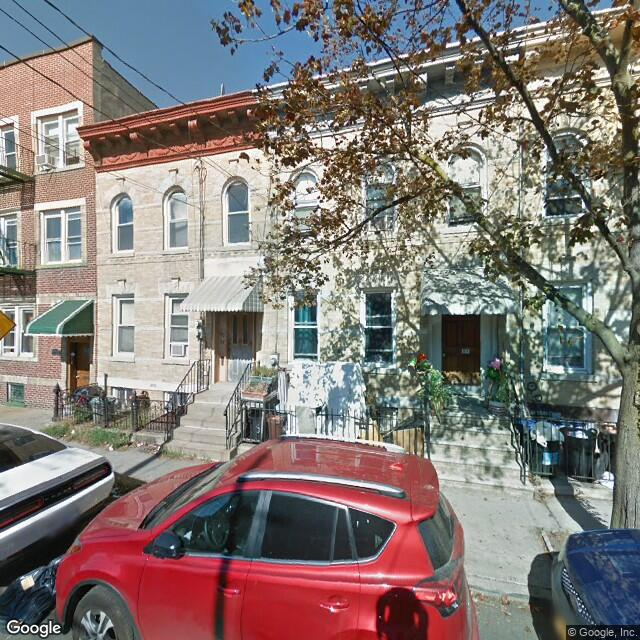litter: (1, 571, 68, 638), (134, 435, 154, 452), (56, 424, 81, 435), (102, 441, 116, 453)
